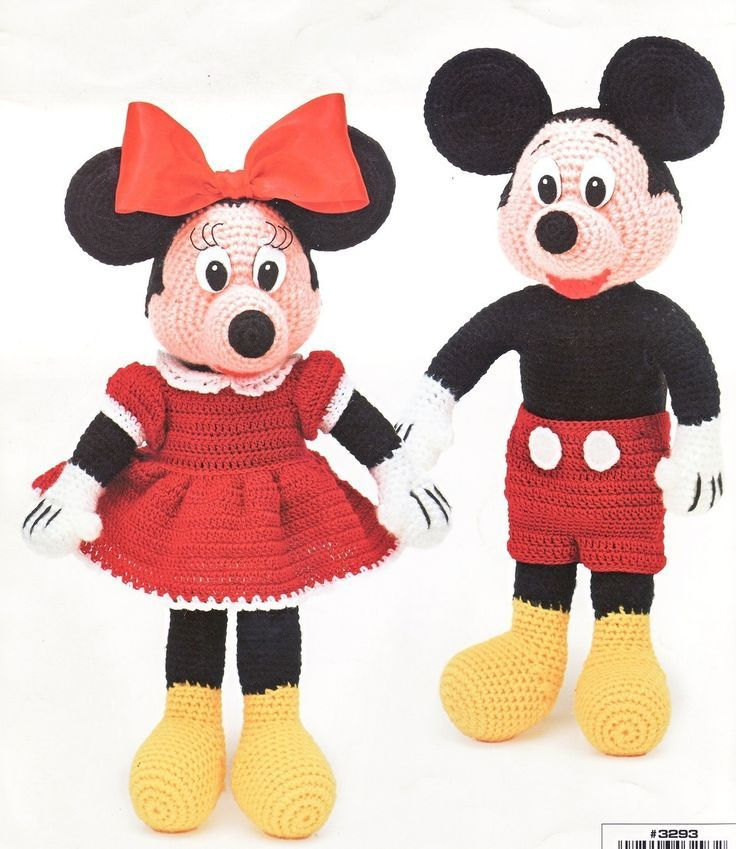Mickey: (422, 31, 726, 303)
